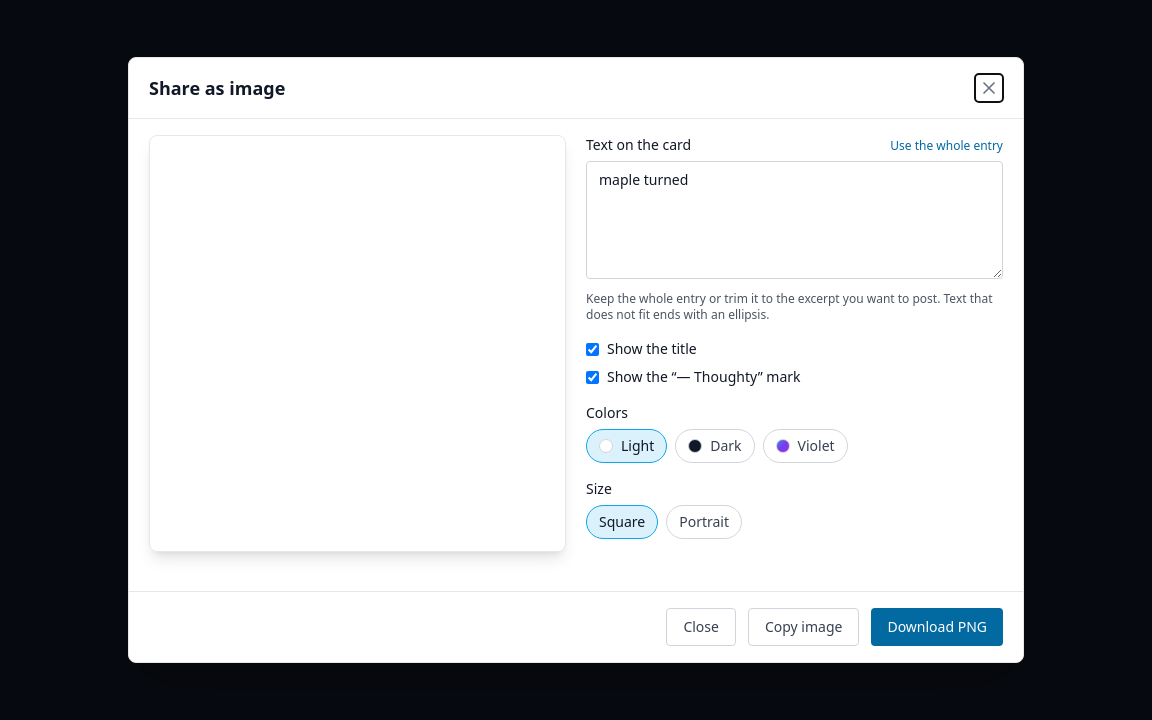
Scenario: ShareImageDialog › starts from the selected excerpt in the light theme and goes back to the whole entry
expect the text box labelled "Text on the card" holds "maple turned": met, box [586, 161, 1003, 279]
expect the radio button labelled "Light" is checked: met, box [586, 429, 667, 463]
Click the button "Use the whole entry". click: click(947, 146)
box: [890, 138, 1003, 154]
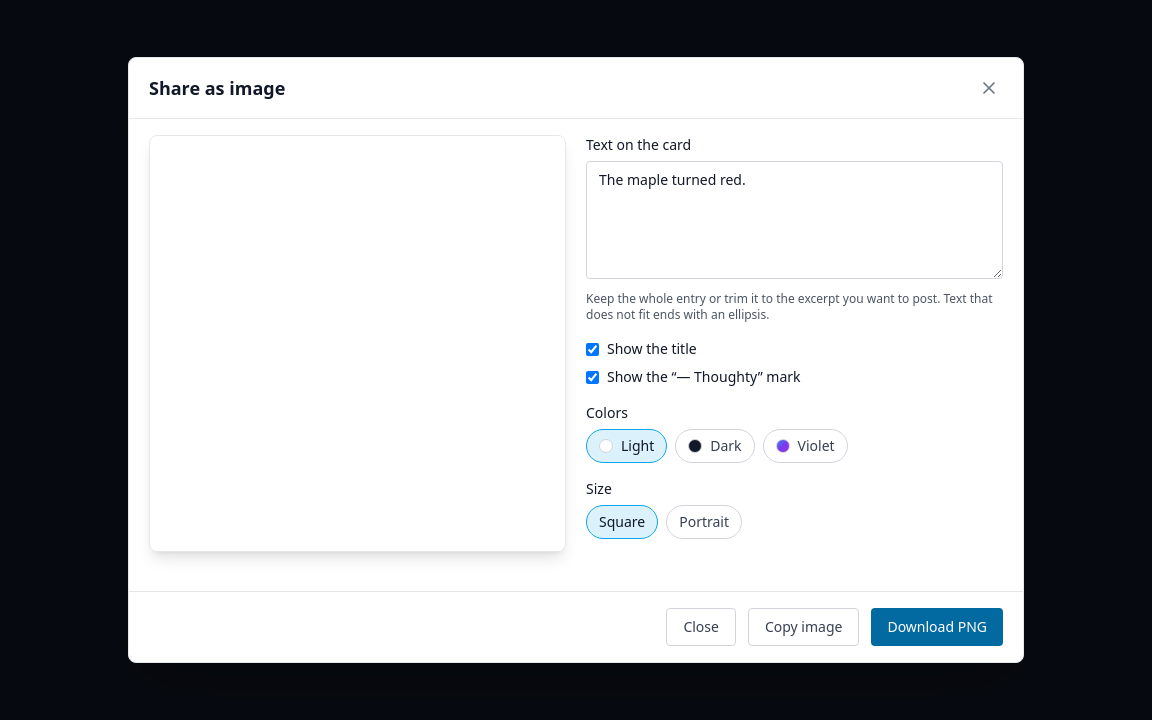
expect the text box labelled "Text on the card" holds "The maple turned red.": met, box [586, 161, 1003, 279]
expect the button "Use the whole entry" is gone: met
